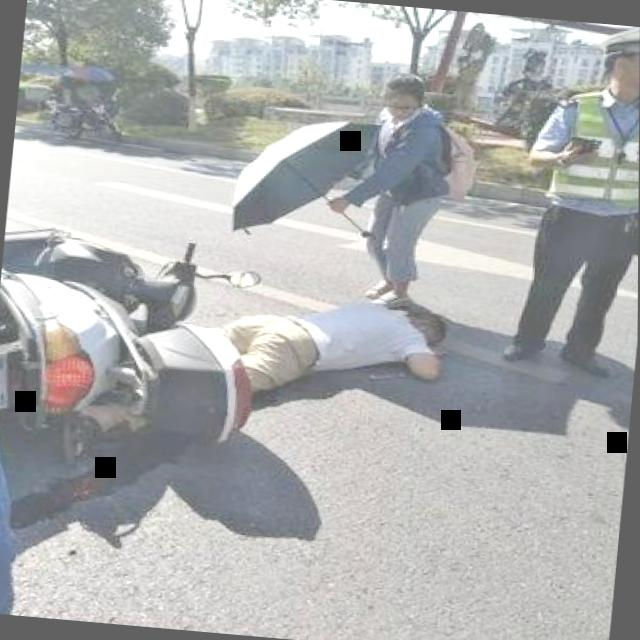Fall-Detected: (168, 266, 460, 437)
